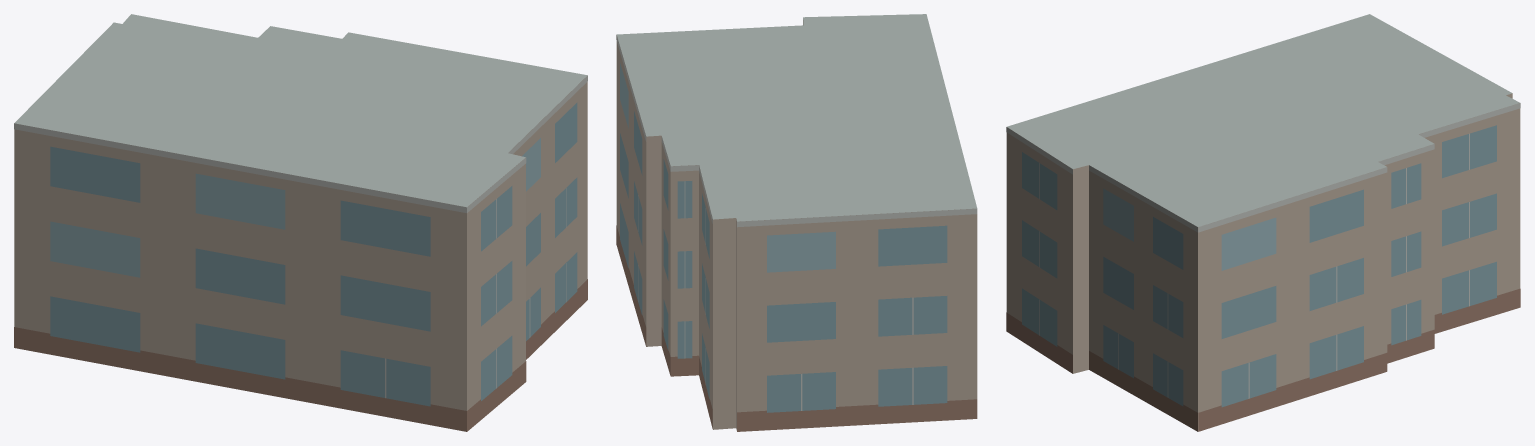
The model's file is survey-upis-32660710.glb.
The picture shows the model from 3 angles, left to right: view 1: azimuth 30°, elevation 25°; view 2: azimuth 150°, elevation 25°; view 3: azimuth 270°, elevation 25°; orthographic projection. The views are drawn at different scales.
Parts seen in each view (by area): view 1: survey-upis-32660710.tmp; view 2: survey-upis-32660710.tmp; view 3: survey-upis-32660710.tmp.
Boxes of the visible parts, x1=… form: survey-upis-32660710.tmp: x1=14, y1=14, x2=587, y2=431; survey-upis-32660710.tmp: x1=616, y1=14, x2=977, y2=431; survey-upis-32660710.tmp: x1=1006, y1=14, x2=1520, y2=431.
Size of the model in its own units: 20.45 by 9.15 by 20.83.
